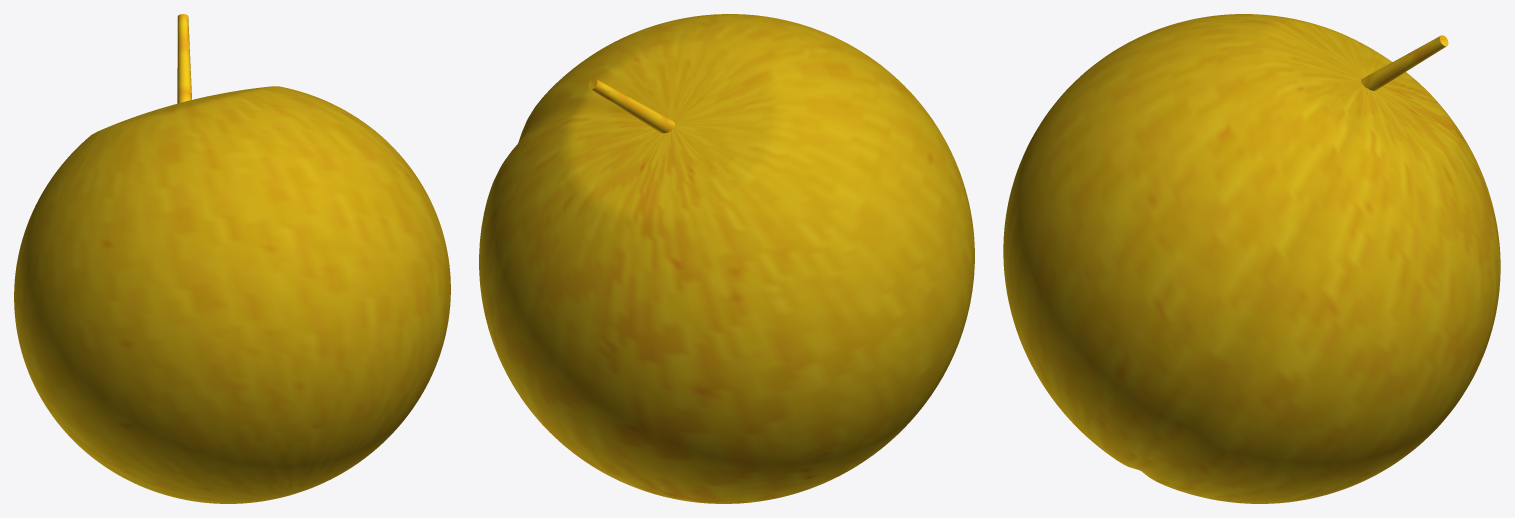
Rendered from mirabelle.glb.
The picture shows the model from 3 angles, left to right: view 1: azimuth 30°, elevation 25°; view 2: azimuth 150°, elevation 25°; view 3: azimuth 270°, elevation 25°; orthographic projection. The views are drawn at different scales.
Visible parts, largest first — view 1: mirabelle; view 2: mirabelle; view 3: mirabelle.
Part boxes in pixels (<box>): mirabelle: <box>14,14,450,503</box>; mirabelle: <box>479,14,974,503</box>; mirabelle: <box>1003,14,1500,503</box>.
Bounding box in the file's own units: 1.95 × 2 × 1.95.
